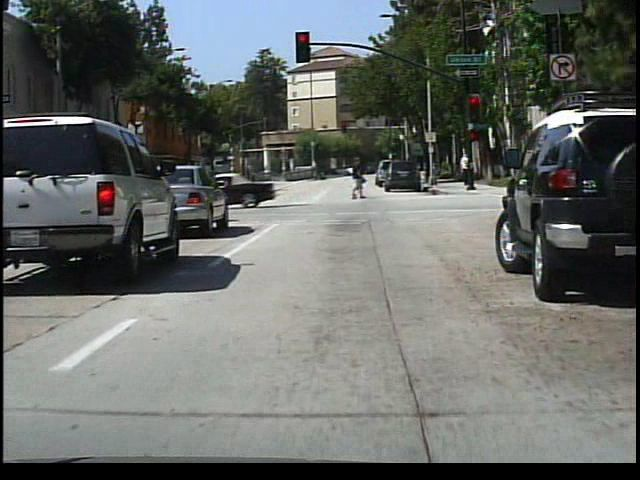person: (346, 158, 371, 201), (455, 149, 472, 190)
